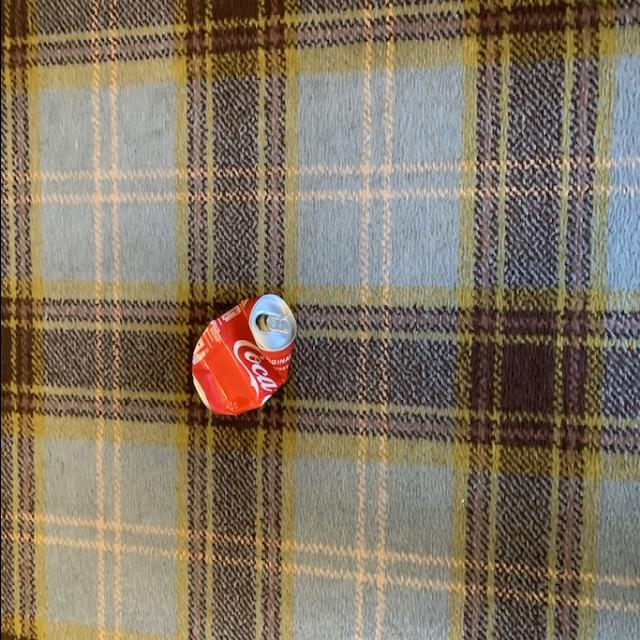Aluminum Can: (190, 288, 300, 420)
